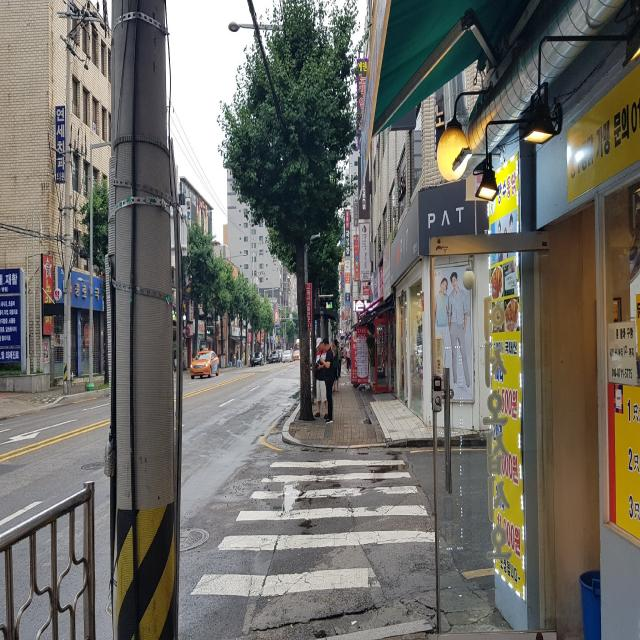횡단보도: (188, 458, 436, 597)
